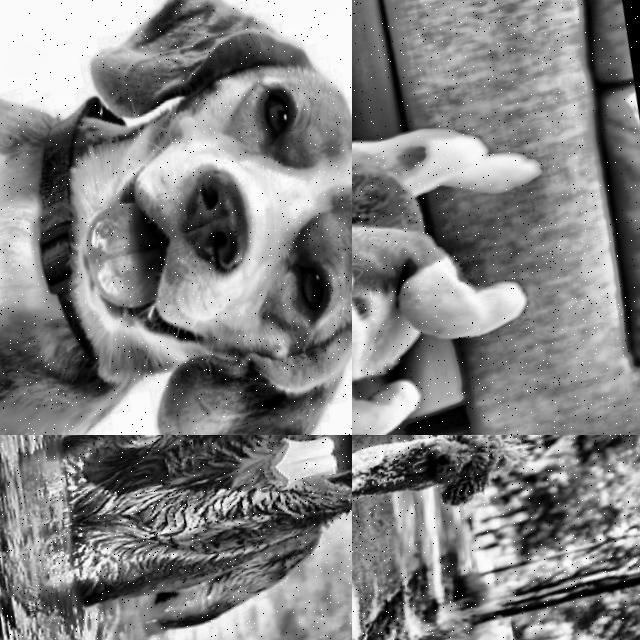beagle: (0, 0, 352, 435), (352, 73, 454, 435)
poodle: (392, 435, 551, 529)
rottweiler: (228, 435, 352, 571)
